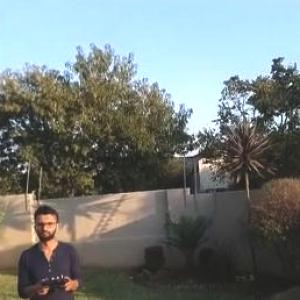follow: (13, 200, 88, 299)
